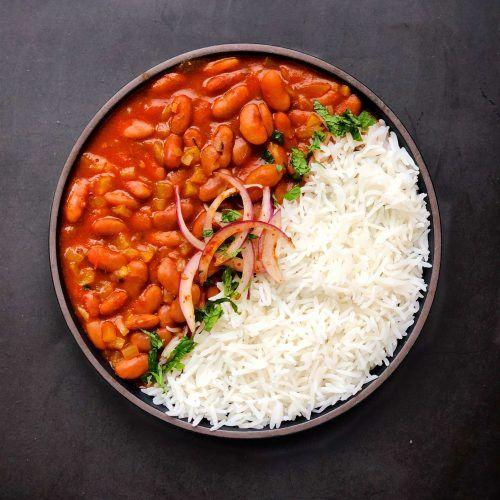rajma: (86, 104, 244, 308)
rice: (249, 228, 440, 438)
